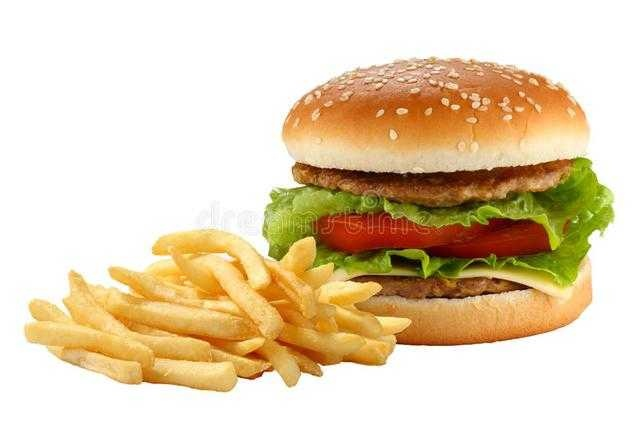hamburger: (273, 54, 628, 337)
